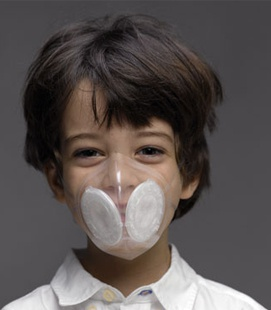face_mask: (60, 89, 178, 254)
